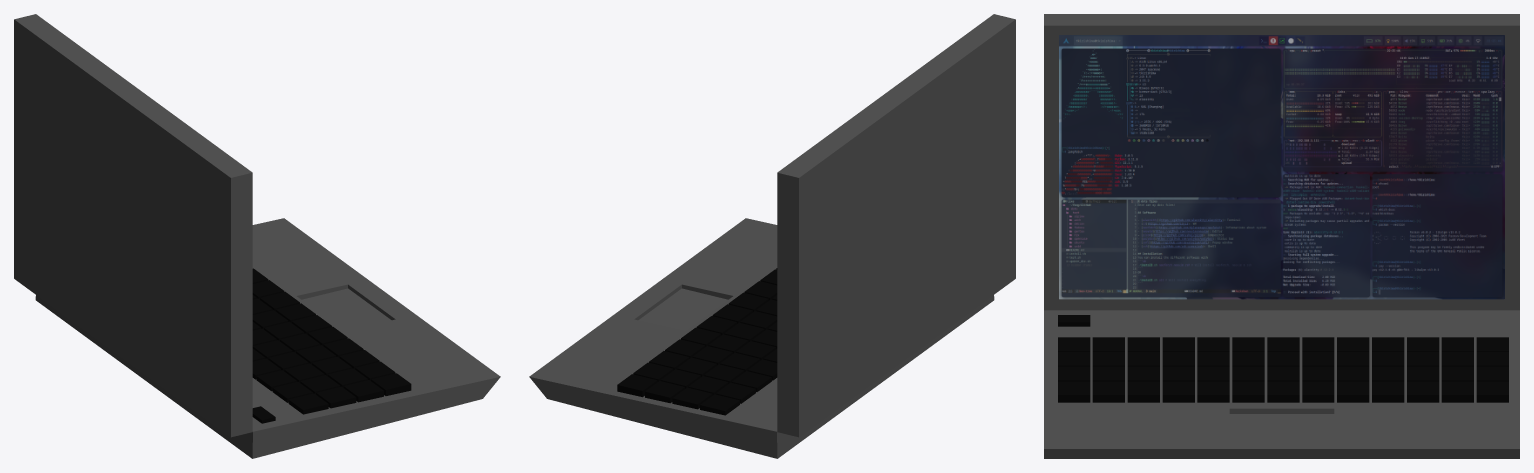
File: rice.glb
3 renders of one model, left to right at view 1: azimuth 30°, elevation 25°; view 2: azimuth 150°, elevation 25°; view 3: azimuth 270°, elevation 25°, orthographic. The views are drawn at different scales.
Parts seen in each view (by area): view 1: Cube, Cube.001, Cube.003; view 2: Cube, Cube.001, Cube.003; view 3: Plane, Cube.001, Cube.003, Cube.
Part boxes in pixels (bbox=[...]): Cube: bbox=[14, 14, 252, 437]; Cube.001: bbox=[35, 218, 500, 458]; Cube.003: bbox=[252, 268, 411, 414]; Cube: bbox=[777, 14, 1015, 437]; Cube.001: bbox=[529, 218, 994, 458]; Cube.003: bbox=[617, 268, 777, 415]; Plane: bbox=[1059, 35, 1504, 299]; Cube.001: bbox=[1044, 310, 1519, 458]; Cube.003: bbox=[1058, 337, 1508, 402]; Cube: bbox=[1044, 14, 1519, 310].
Bounding box in the file's own units: 1.3 × 1.31 × 1.8.
4 materials, 1 textured.
